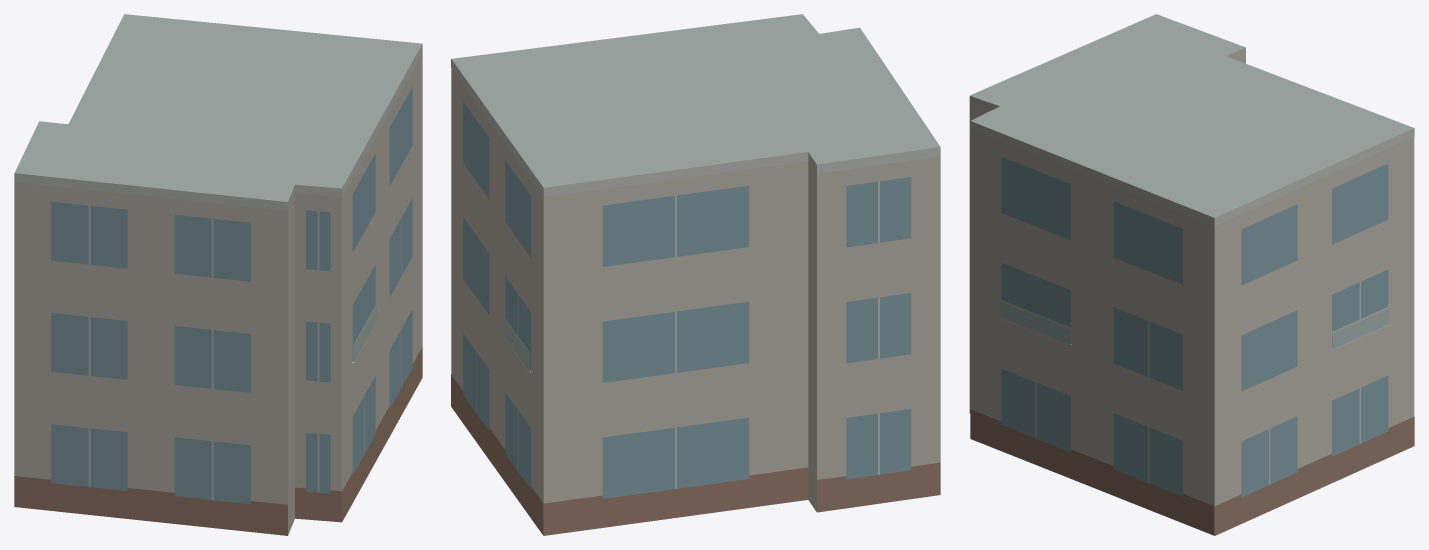
Rendered from survey-upis-32928009.glb.
The picture shows the model from 3 angles, left to right: view 1: azimuth 30°, elevation 25°; view 2: azimuth 150°, elevation 25°; view 3: azimuth 270°, elevation 25°; orthographic projection. The views are drawn at different scales.
Visible parts, largest first — view 1: survey-upis-32928009.tmp; view 2: survey-upis-32928009.tmp; view 3: survey-upis-32928009.tmp.
Part boxes in pixels (x1=…): survey-upis-32928009.tmp: x1=14, y1=14, x2=422, y2=535; survey-upis-32928009.tmp: x1=451, y1=14, x2=940, y2=535; survey-upis-32928009.tmp: x1=969, y1=14, x2=1414, y2=535.
Size of the model in its own units: 12.6 by 9.15 by 11.62.
